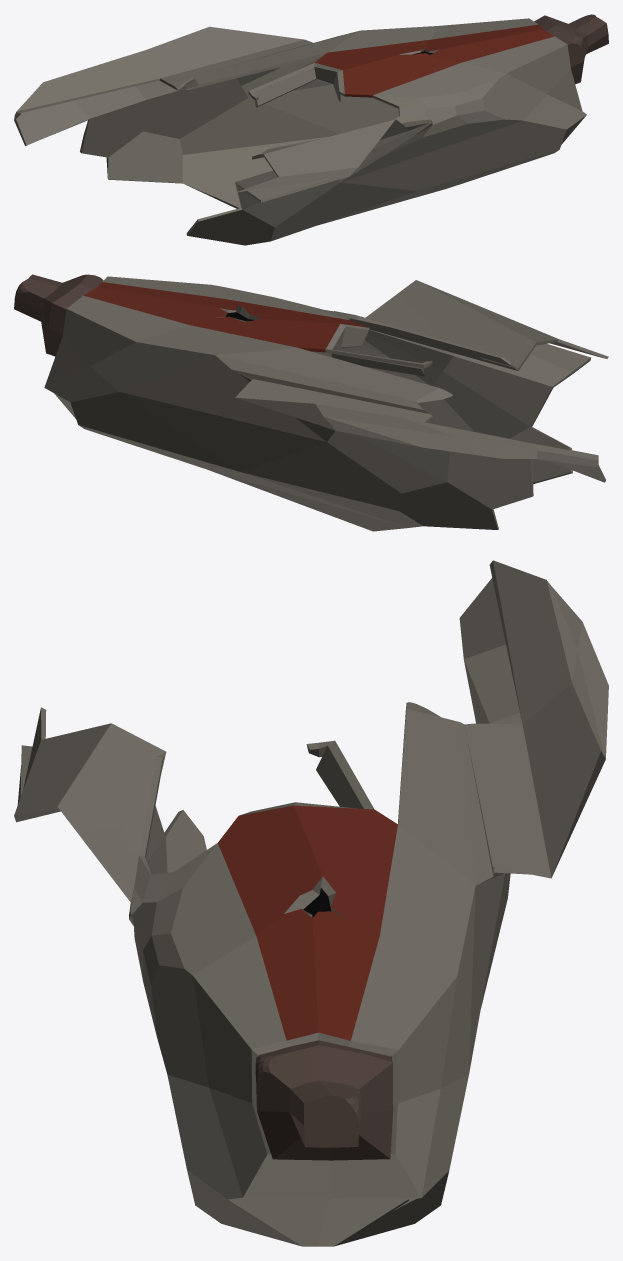
File: SubWreck2.fbx
3 views of the same model, one above another, from view 1: azimuth 30°, elevation 25°; view 2: azimuth 150°, elevation 25°; view 3: azimuth 270°, elevation 25° (orthographic). The views are drawn at different scales.
Parts seen in each view (by area): view 1: SubWreck; view 2: SubWreck; view 3: SubWreck.
Part boxes in pixels (x1=…): SubWreck: x1=14, y1=14, x2=608, y2=245; SubWreck: x1=14, y1=274, x2=608, y2=531; SubWreck: x1=14, y1=560, x2=608, y2=1246.
Size of the model in its own units: 2226 by 631 by 1059.
